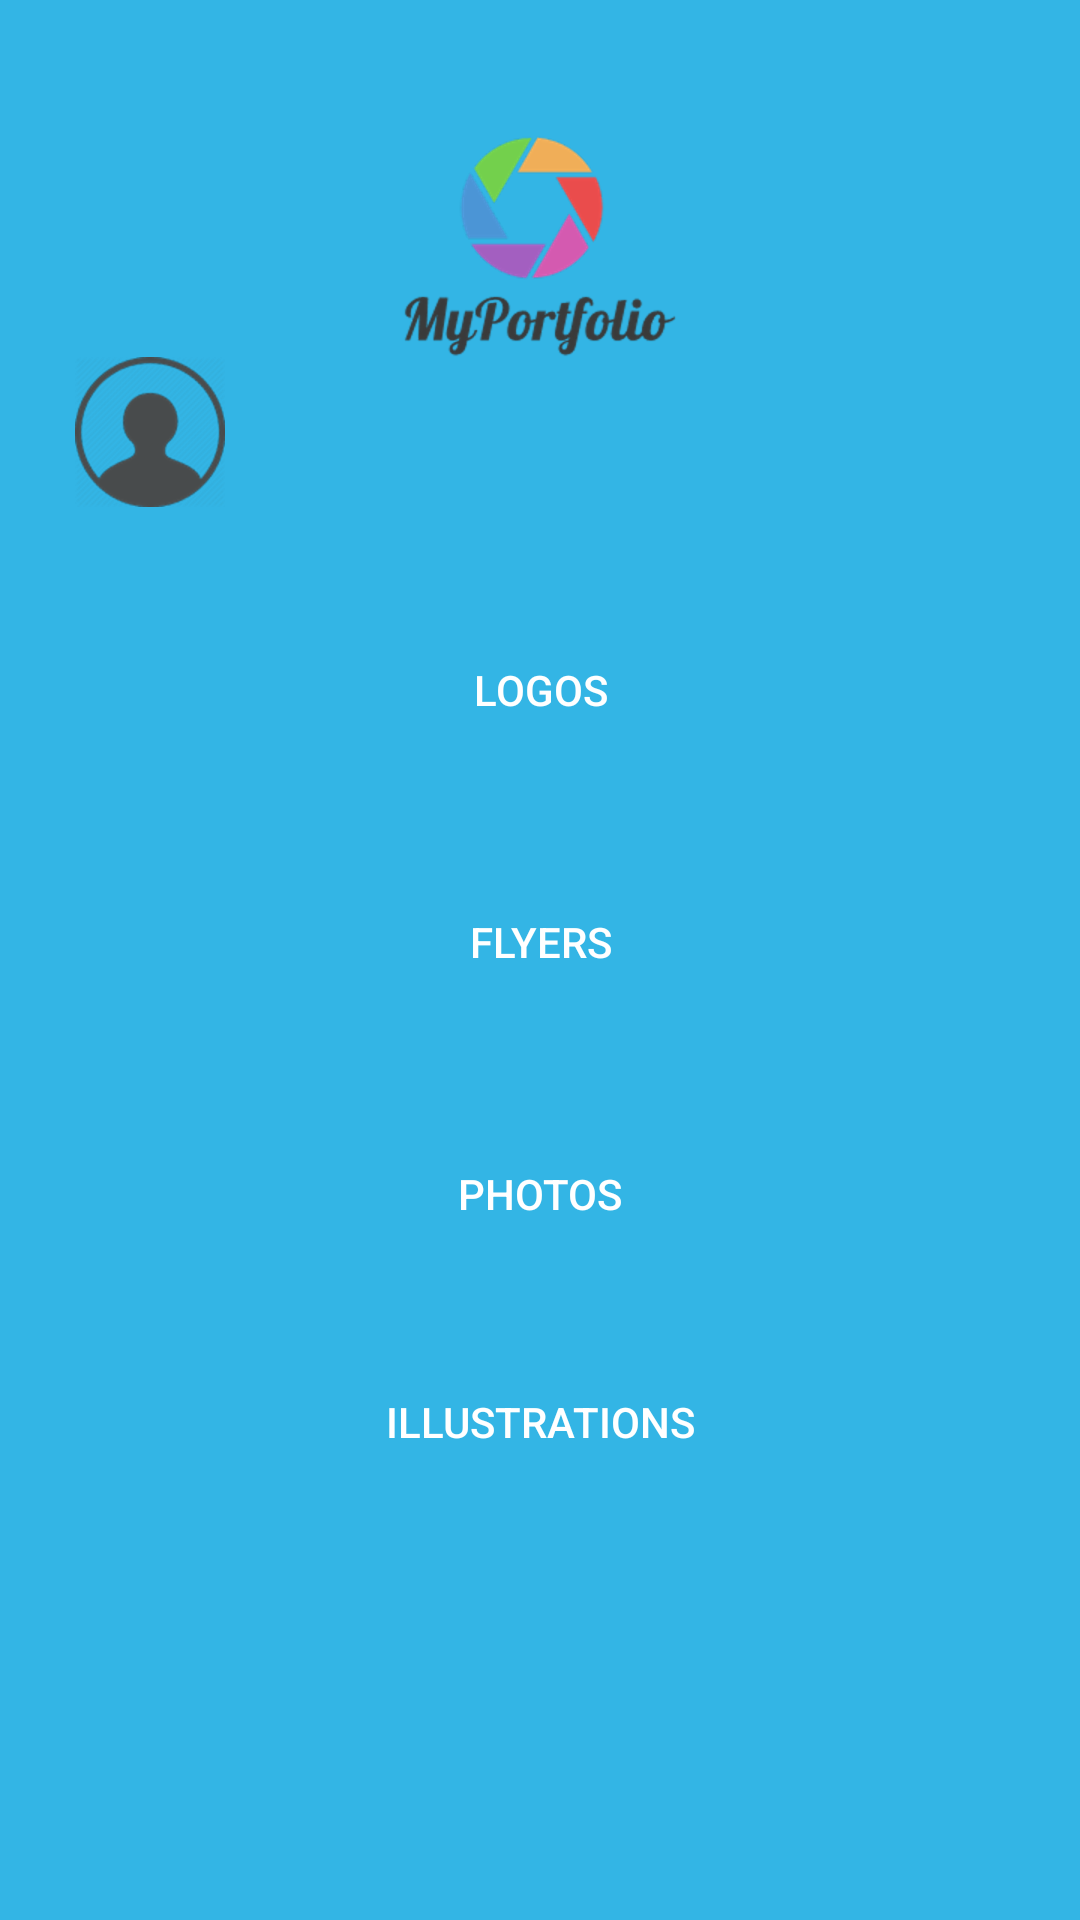

Icon click points for this 1080px x 1920px phone screenshot, format (x,y):
profilpicto: (150,432)
